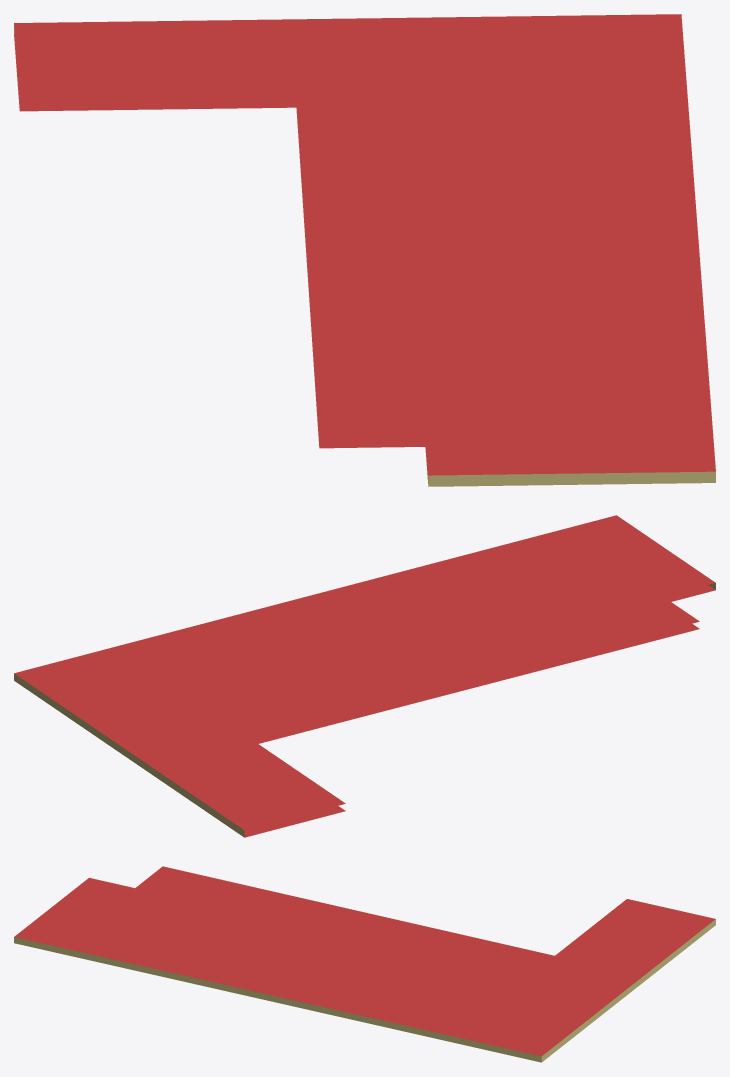
3 renders of one model, top to bottom at view 1: azimuth 30°, elevation 25°; view 2: azimuth 150°, elevation 25°; view 3: azimuth 270°, elevation 25°, orthographic. The views are drawn at different scales.
Size of the model in its own units: 6.54 by 10.2 by 0.1.
